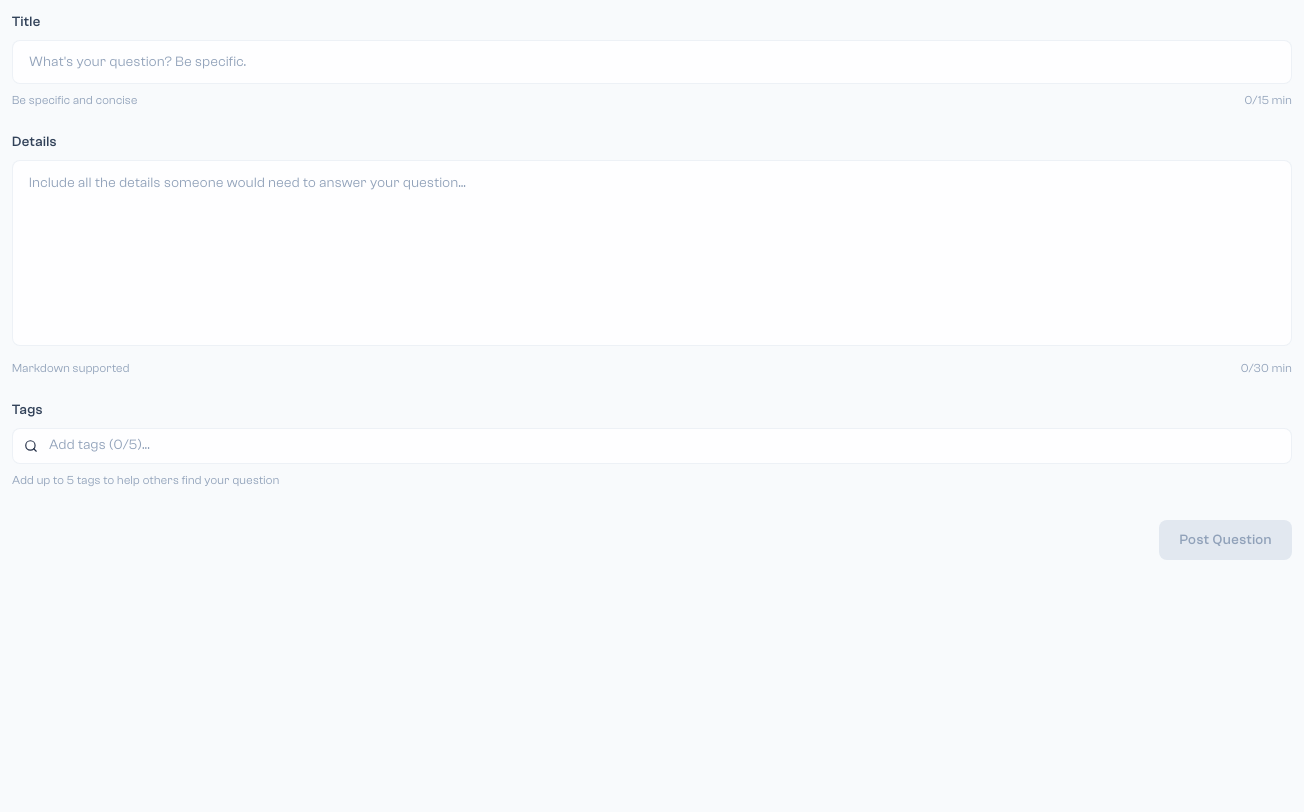
Test case: AskQuestionForm › body validation › updates character count as user types
Type "Hello world" into the text box labelled "Details".
click(652, 253); type("Hello world")  # box [12, 160, 1292, 346]
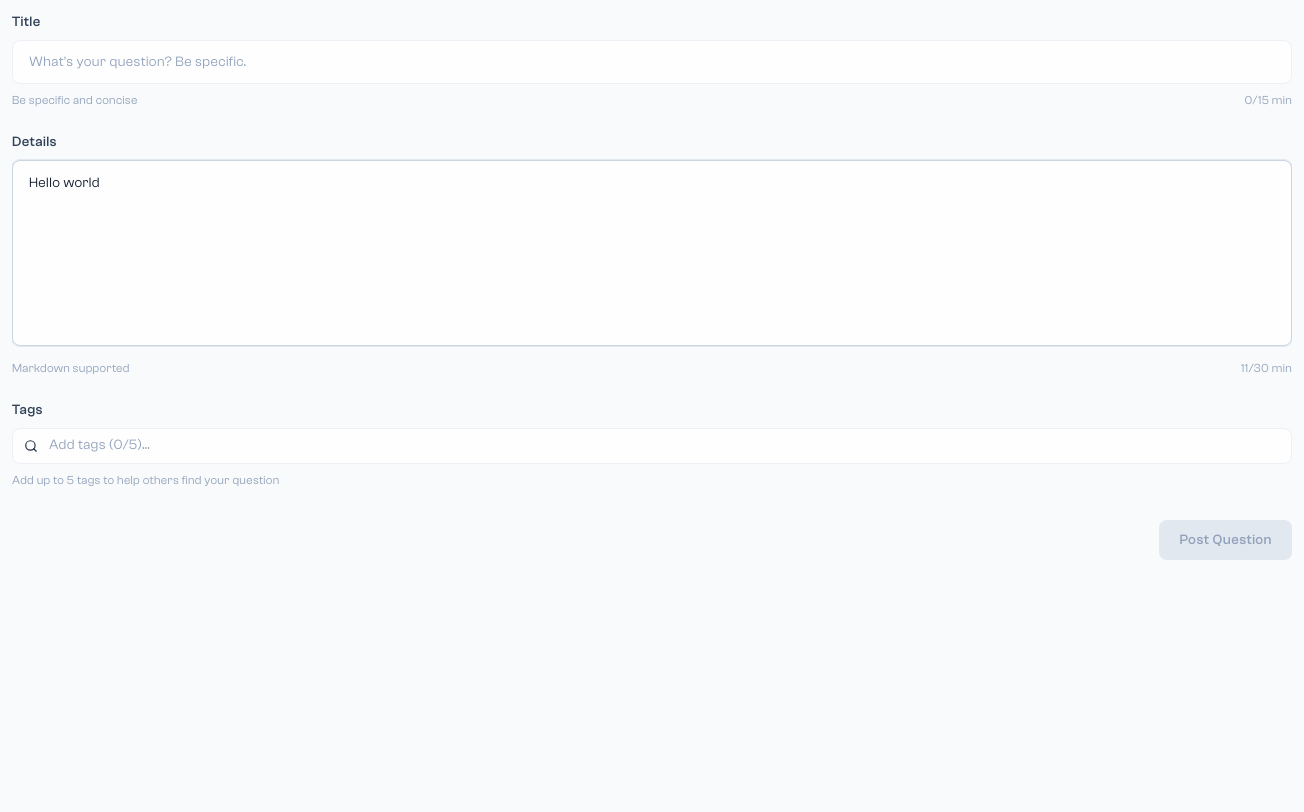
Check: the text "11/30 min" is shown, box [1241, 360, 1292, 376]
